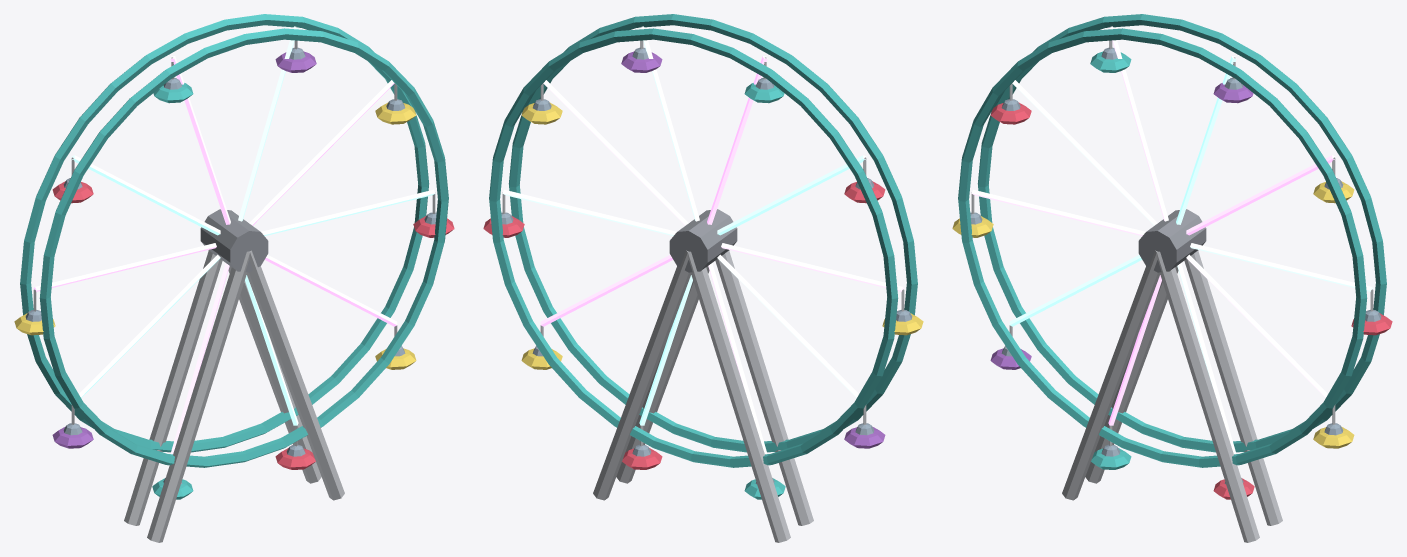
Rendered from arena_ferris.glb.
The picture shows the model from 3 angles, left to right: view 1: azimuth 30°, elevation 25°; view 2: azimuth 150°, elevation 25°; view 3: azimuth 330°, elevation 25°; orthographic projection.
Visible parts, largest first — view 1: arena_ferris; view 2: arena_ferris; view 3: arena_ferris.
Boxes of the visible parts, box(x1,y1,x2,y2) form: arena_ferris: box(14, 14, 454, 542); arena_ferris: box(483, 14, 923, 542); arena_ferris: box(952, 14, 1392, 542).
Bounding box in the file's own units: 15.3 × 16.25 × 1.9.
